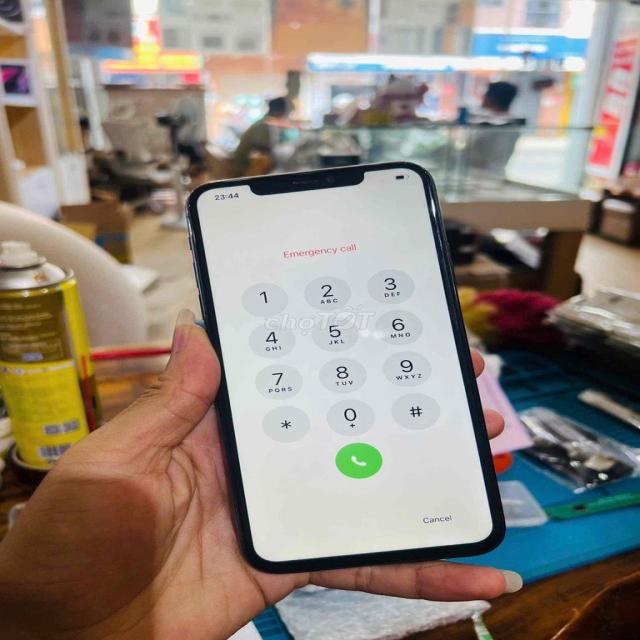gen_11: (181, 154, 517, 576)
